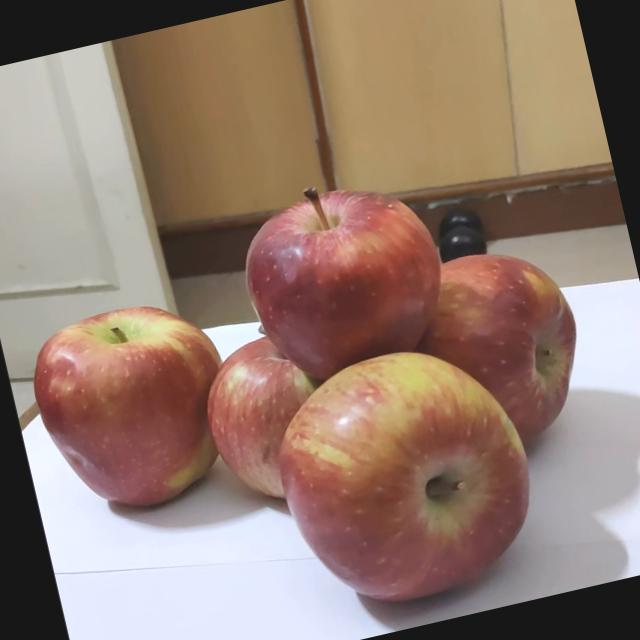apple: (225, 327, 526, 633), (9, 262, 312, 534), (345, 238, 588, 489), (212, 147, 448, 386)
